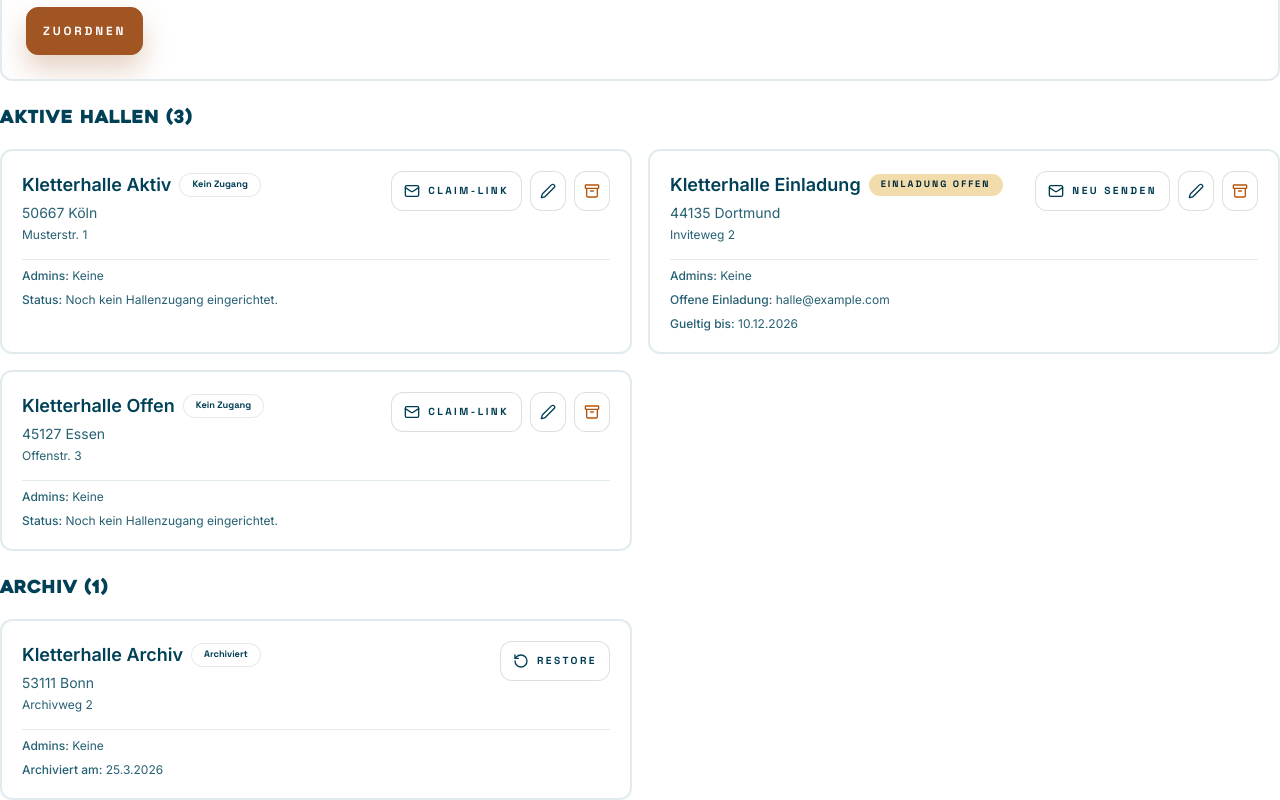
Test: LeagueGyms › restores archived gyms from the archive section
The width and height of the screenshot is (1280, 800).
Later steps or results of the test are not shown.
(page scrolled)
Expected: the heading "Archiv (1)" is shown, left=0, top=579, right=108, bottom=598
Click the button with aria-label "halle kletterhalle archiv wiederherstellen" at (555, 661), box left=500, top=641, right=610, bottom=681
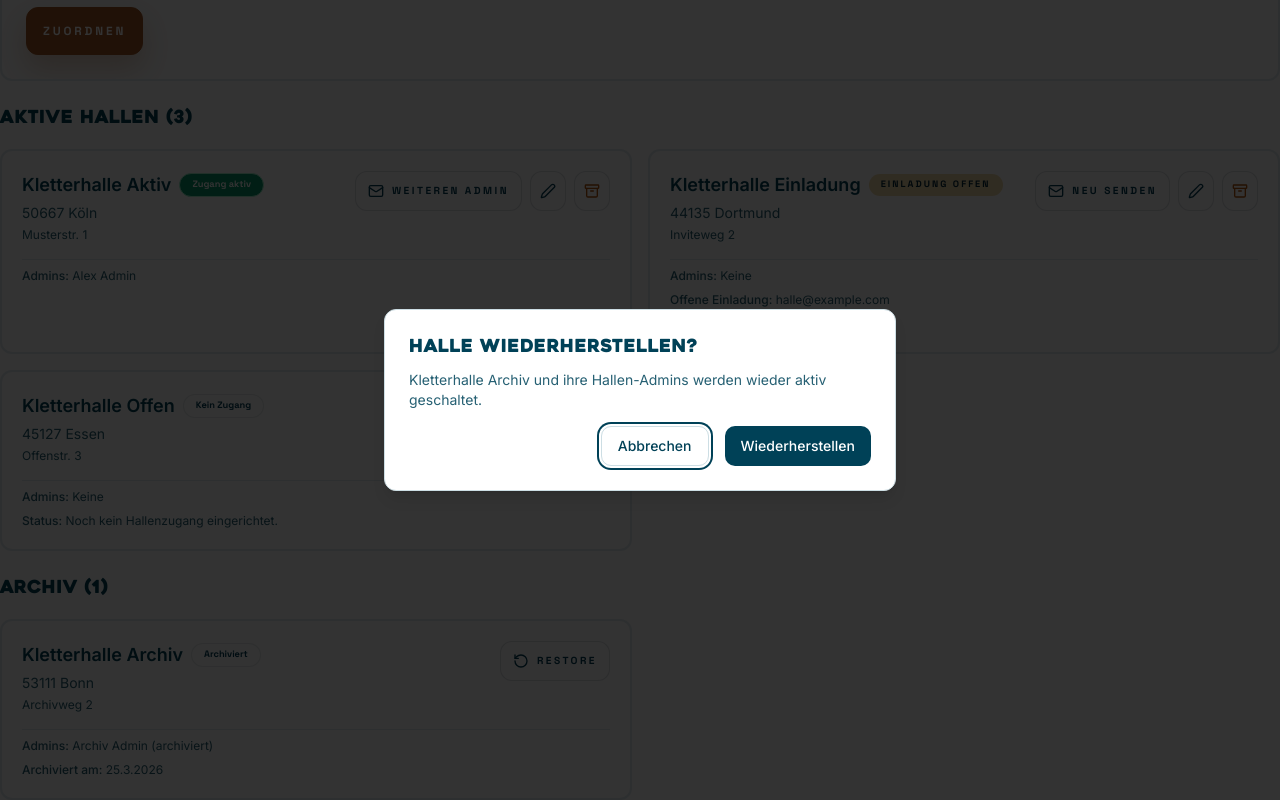
Expected: the heading "Halle wiederherstellen?" is shown, left=409, top=338, right=698, bottom=357
